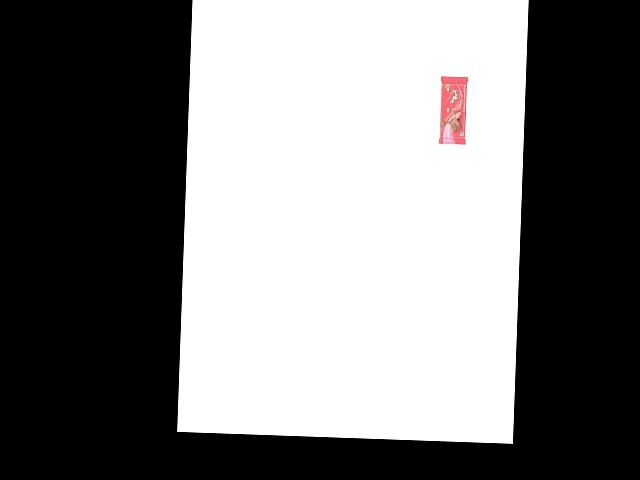chocolate: (438, 71, 473, 145)
